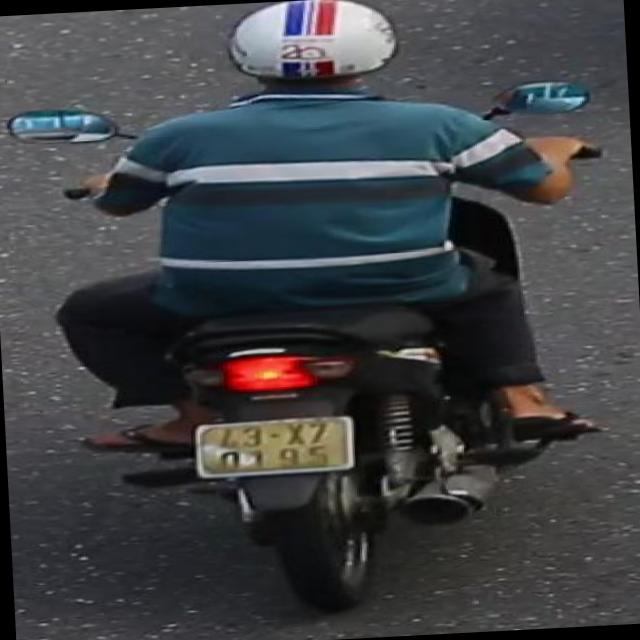LP: (188, 408, 365, 480)
helmet: (223, 0, 411, 113)
